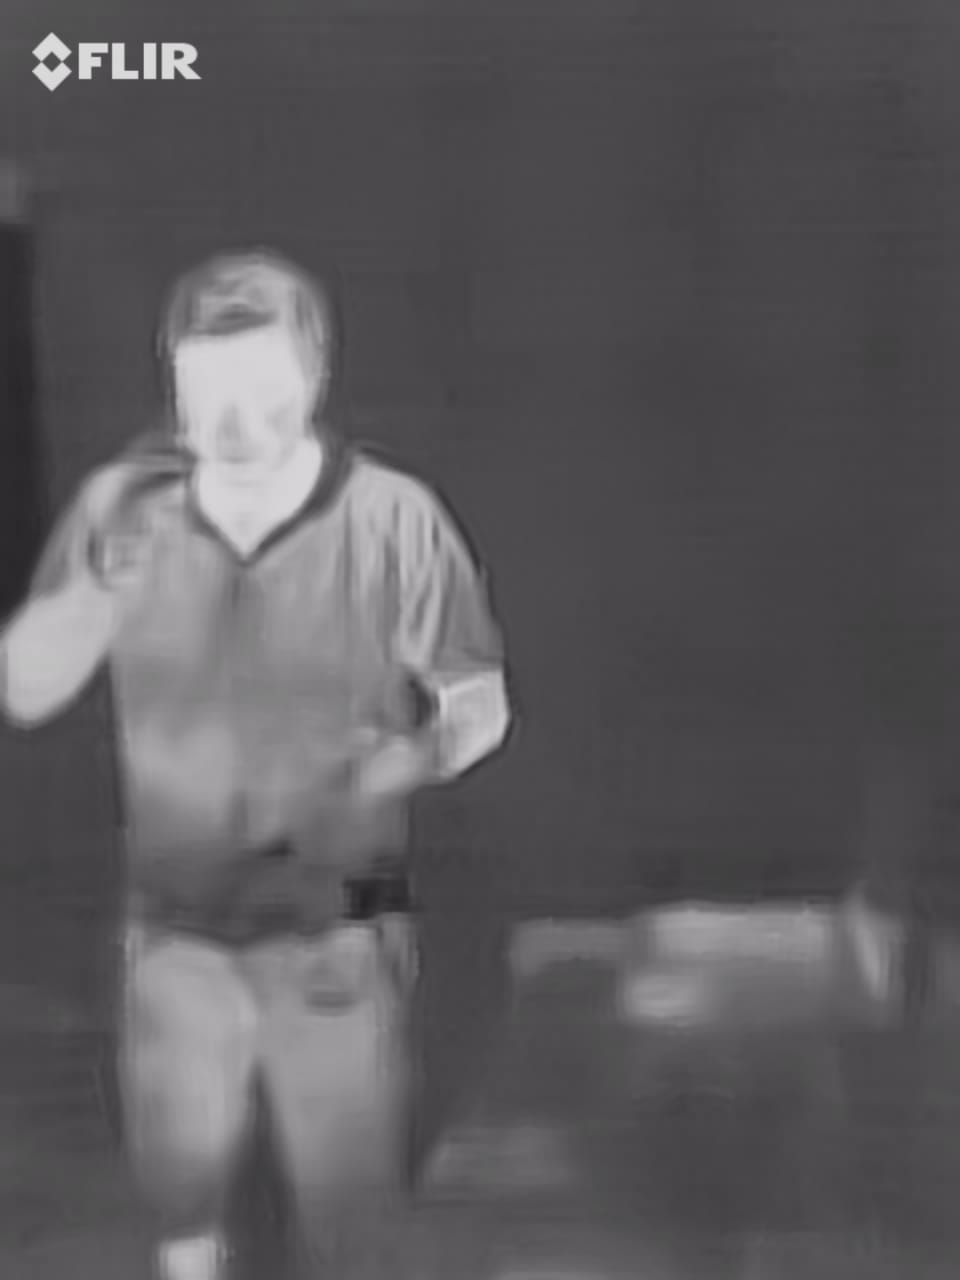head: (149, 249, 330, 496)
